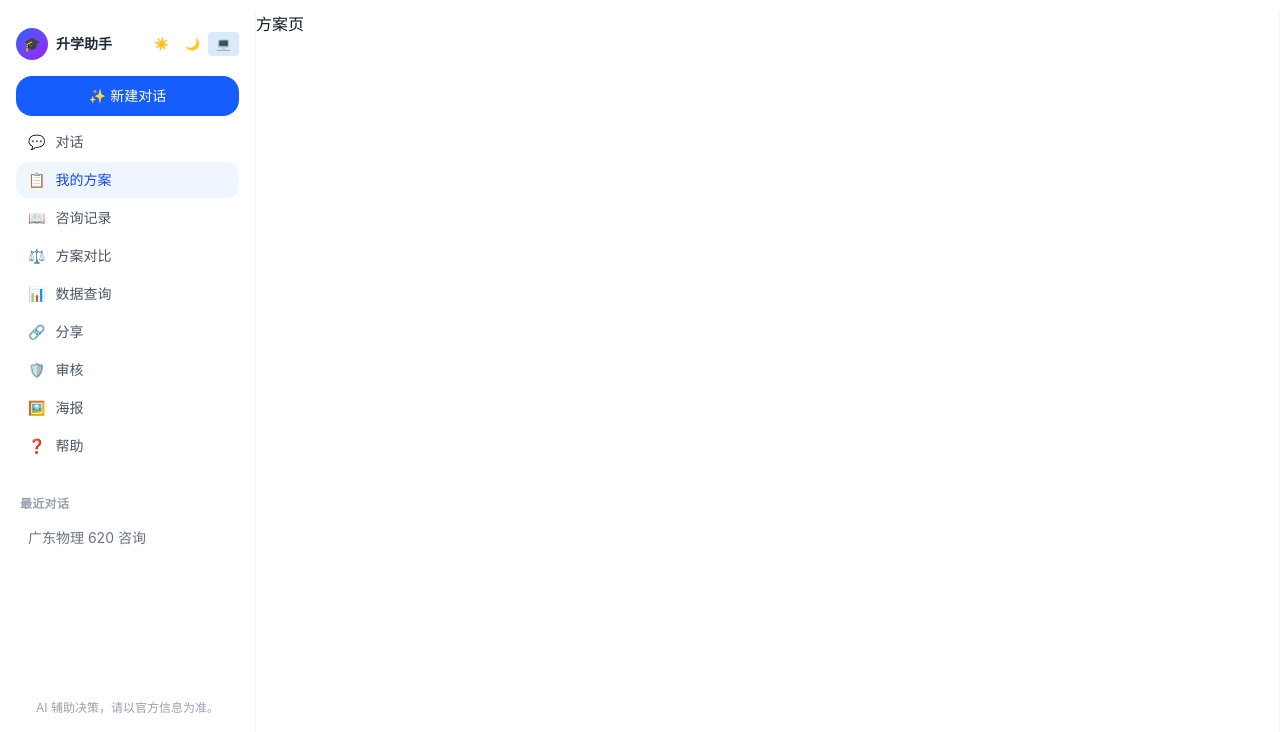
AppLayout new chat navigation › returns users from feature pages to a new empty chat on the home route
Expected: the text "方案页" is shown, [256,14,304,34]
Expected: the text "首页新对话" is not shown
Click the button "✨ 新建对话" at (128, 96), box [16,76,239,116]
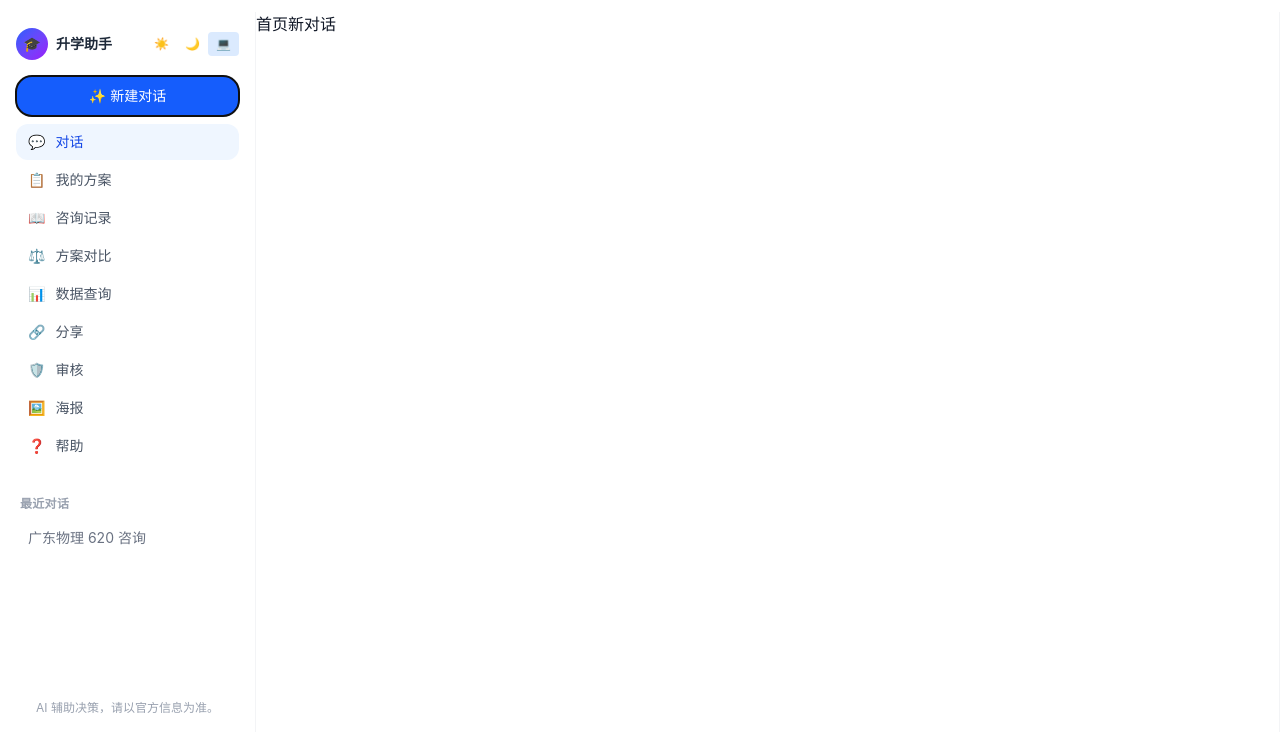
Result: the text "首页新对话" is shown at [256,14,336,34]
Result: the text "方案页" is gone
